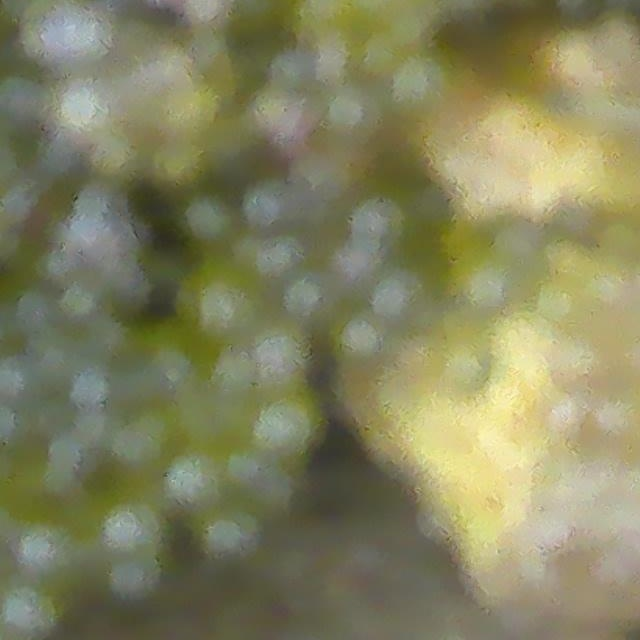SeaGrape: (251, 389, 324, 463), (250, 319, 311, 386), (0, 72, 44, 123)
